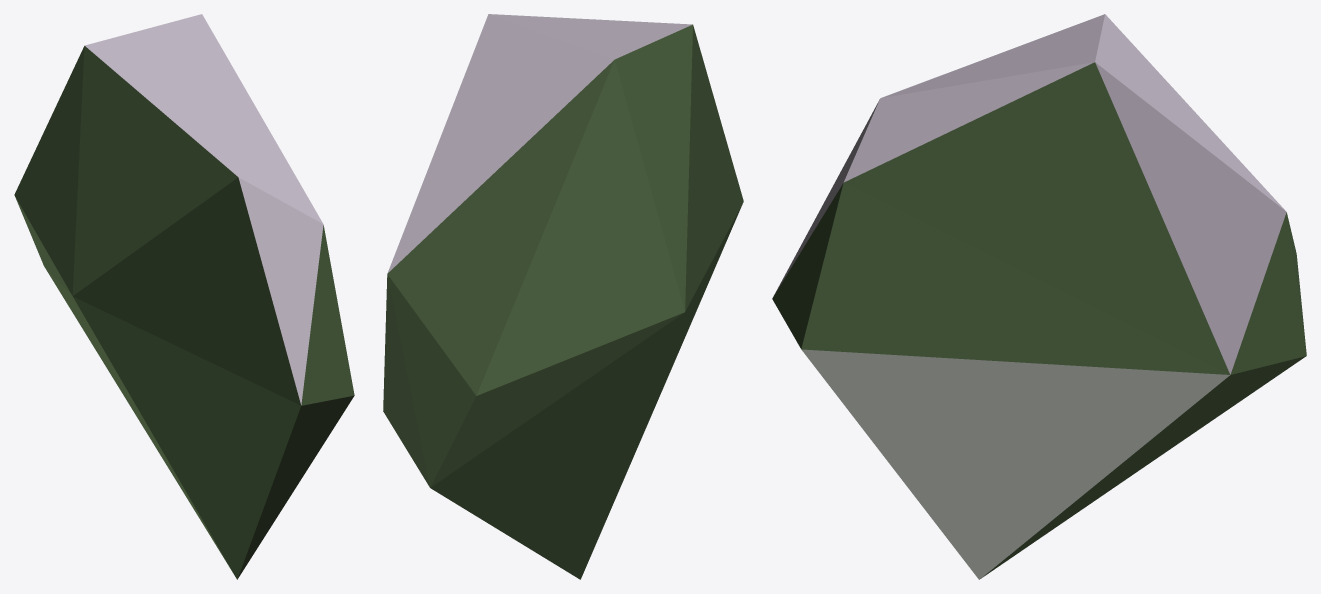
Rendered from BirchTree_Snow_4.lod4.glb.
3 renders of one model, left to right at view 1: azimuth 30°, elevation 25°; view 2: azimuth 150°, elevation 25°; view 3: azimuth 270°, elevation 25°, orthographic. The views are drawn at different scales.
Parts seen in each view (by area): view 1: BirchTree_Snow_4; view 2: BirchTree_Snow_4; view 3: BirchTree_Snow_4.
Part boxes in pixels (left/top/right/bottom): BirchTree_Snow_4: left=14, top=14, right=354, bottom=579; BirchTree_Snow_4: left=383, top=14, right=743, bottom=579; BirchTree_Snow_4: left=772, top=14, right=1306, bottom=579.
Size of the model in its own units: 1.26 by 3.62 by 3.32.
